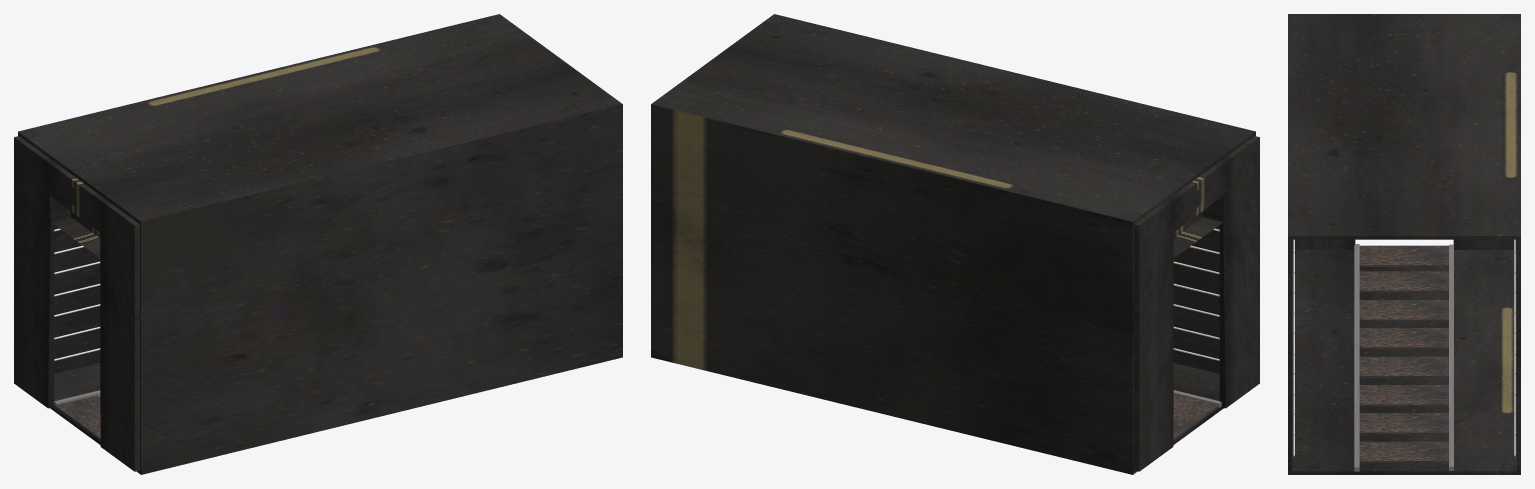
File: ContainerEndRoad.fbx
3 views of the same model, side by side, from view 1: azimuth 30°, elevation 25°; view 2: azimuth 150°, elevation 25°; view 3: azimuth 270°, elevation 25° (orthographic). The views are drawn at different scales.
Visible parts, largest first — view 1: Cube.001, Plane.001, Cube.006, Cylinder.001; view 2: Cube.001, Plane.001, Cube.006, Cylinder.001; view 3: Cube.001, Cube.005, Cube.004, Cube.006, Plane.001, Cylinder.001.
Boxes of the visible parts, x1,y1,x2,y2 form: Cube.001: [18, 14, 622, 474]; Plane.001: [14, 136, 139, 471]; Cube.006: [54, 395, 100, 440]; Cylinder.001: [54, 228, 100, 360]; Cube.001: [651, 14, 1255, 474]; Plane.001: [1134, 136, 1259, 471]; Cube.006: [1173, 395, 1219, 440]; Cylinder.001: [1173, 228, 1219, 360]; Cube.001: [1288, 14, 1520, 474]; Cube.005: [1359, 271, 1448, 462]; Cube.004: [1354, 244, 1453, 471]; Cube.006: [1359, 245, 1448, 266]; Plane.001: [1292, 239, 1516, 249]; Cylinder.001: [1293, 239, 1515, 456].
Bounding box in the file's own units: 2385 × 1180 × 1042.
